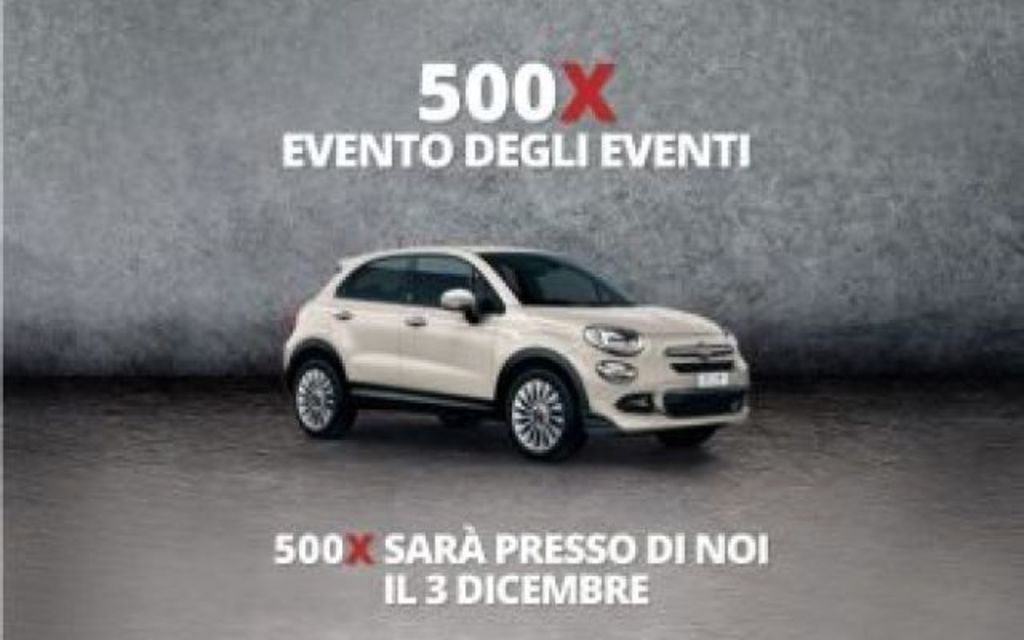Car: (267, 235, 750, 459)
